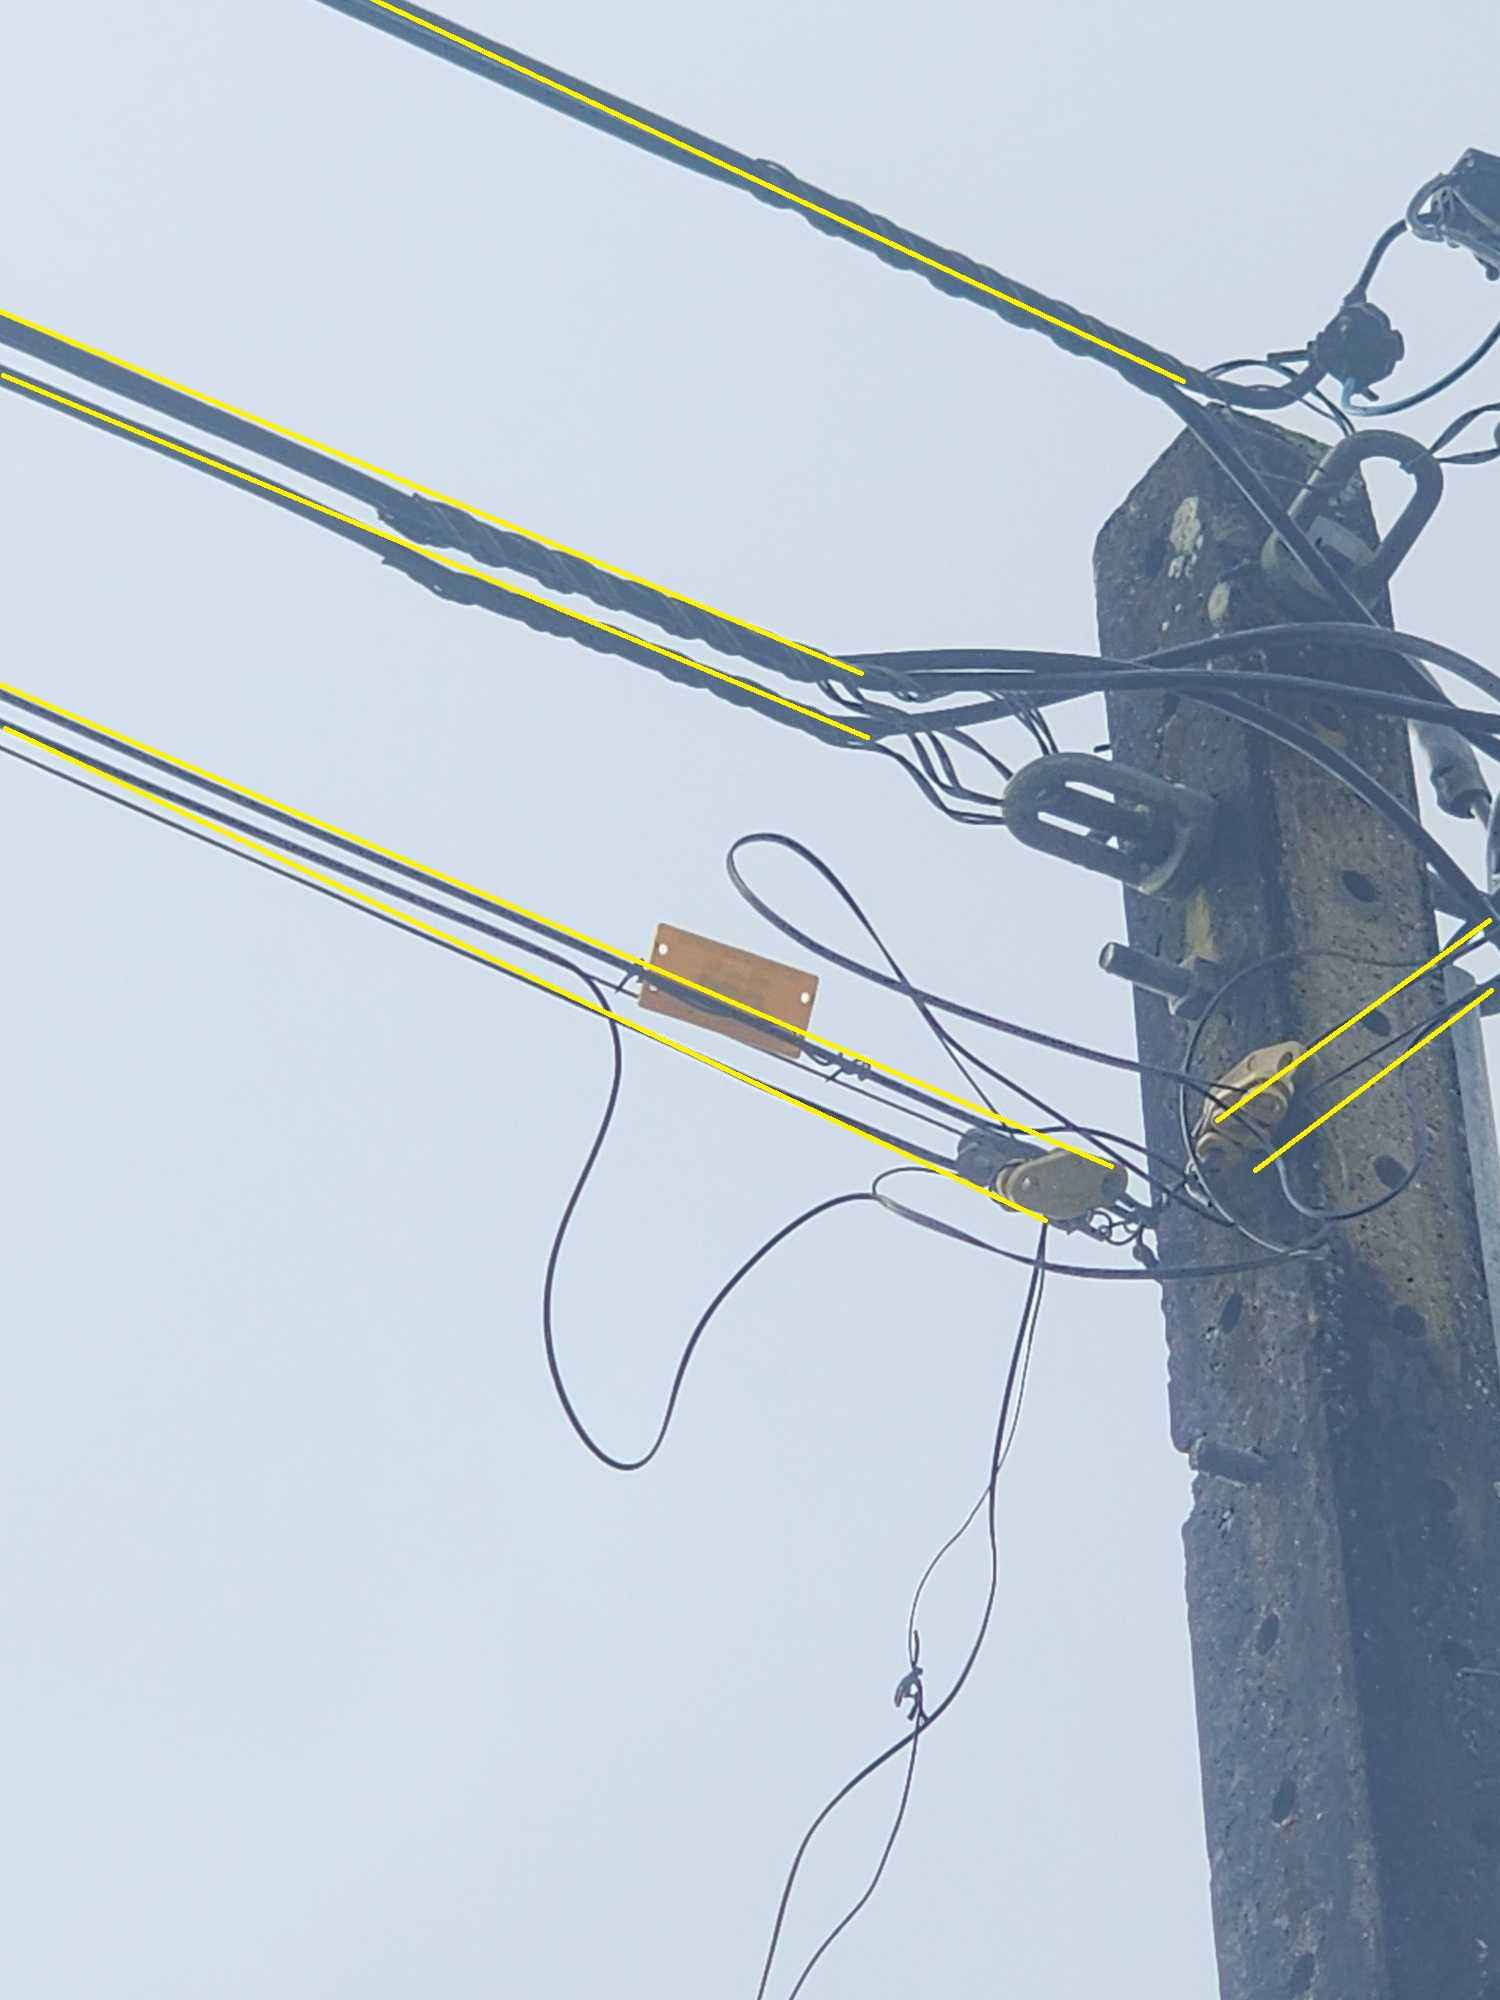poste: (1075, 348, 1500, 2000)
